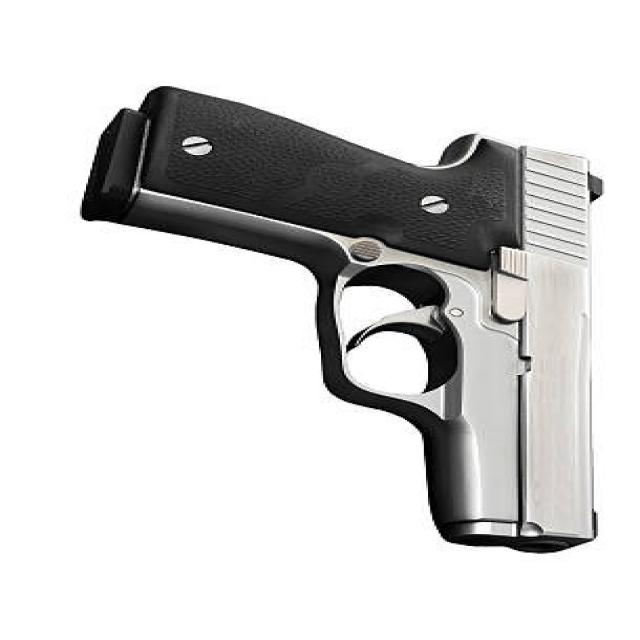pistol: (75, 86, 622, 552)
